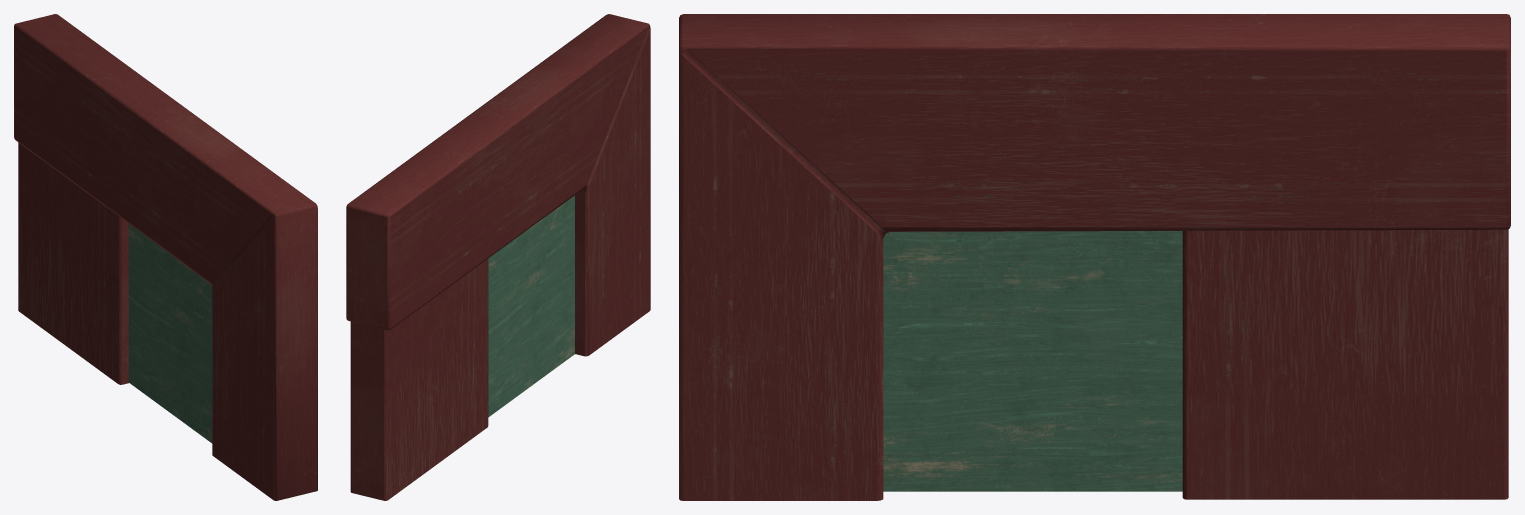
The model's file is SM_Railing01b.fbx.
The picture shows the model from 3 angles, left to right: view 1: azimuth 30°, elevation 25°; view 2: azimuth 150°, elevation 25°; view 3: azimuth 270°, elevation 25°; orthographic projection. The views are drawn at different scales.
Visible parts, largest first — view 1: SM_Railing01b; view 2: SM_Railing01b; view 3: SM_Railing01b.
Boxes of the visible parts, x1,y1,x2,y2 form: SM_Railing01b: [14, 14, 317, 500]; SM_Railing01b: [346, 14, 650, 500]; SM_Railing01b: [679, 14, 1510, 500].
Bounding box in the file's own units: 6.92 × 71.51 × 43.26.
Materials: 2 (2 with a texture image).
